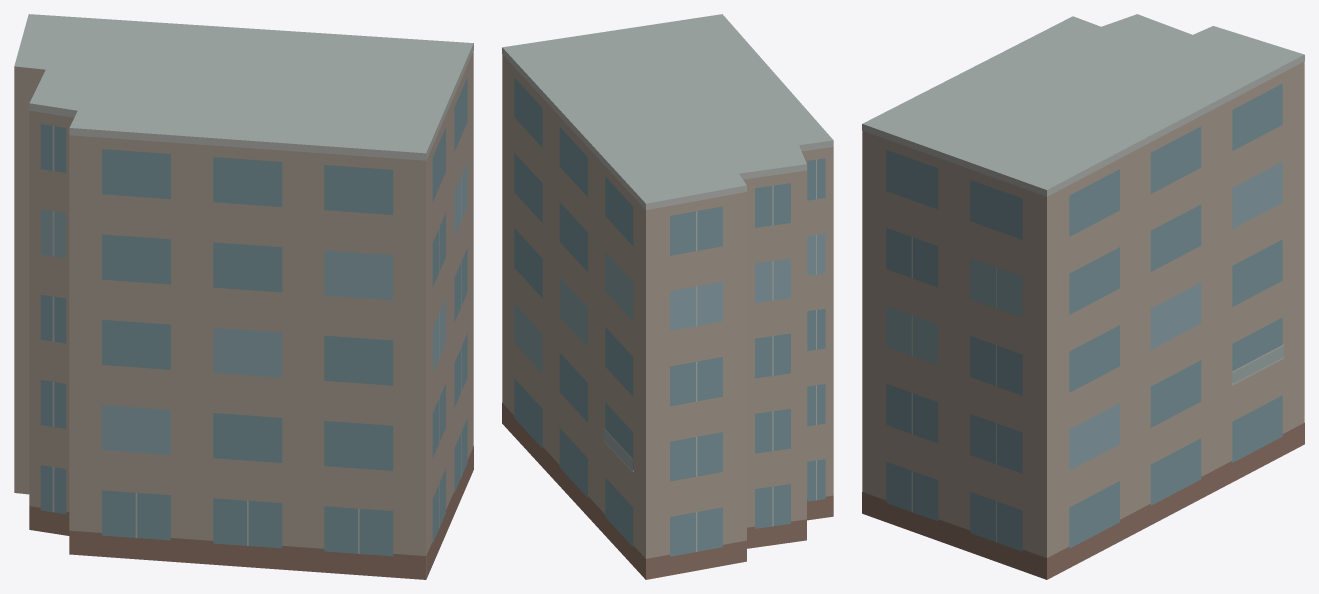
File: survey-upis-32950995.glb
3 renders of one model, left to right at view 1: azimuth 30°, elevation 25°; view 2: azimuth 150°, elevation 25°; view 3: azimuth 270°, elevation 25°, orthographic. The views are drawn at different scales.
Parts seen in each view (by area): view 1: survey-upis-32950995.tmp; view 2: survey-upis-32950995.tmp; view 3: survey-upis-32950995.tmp.
Part boxes in pixels (x1,y1,x2,y2): survey-upis-32950995.tmp: [14, 14, 473, 579]; survey-upis-32950995.tmp: [502, 14, 833, 579]; survey-upis-32950995.tmp: [862, 14, 1304, 579].
Size of the model in its own units: 13.67 by 14.1 by 14.51.
